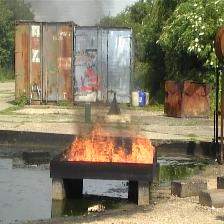fire: (65, 131, 155, 165)
